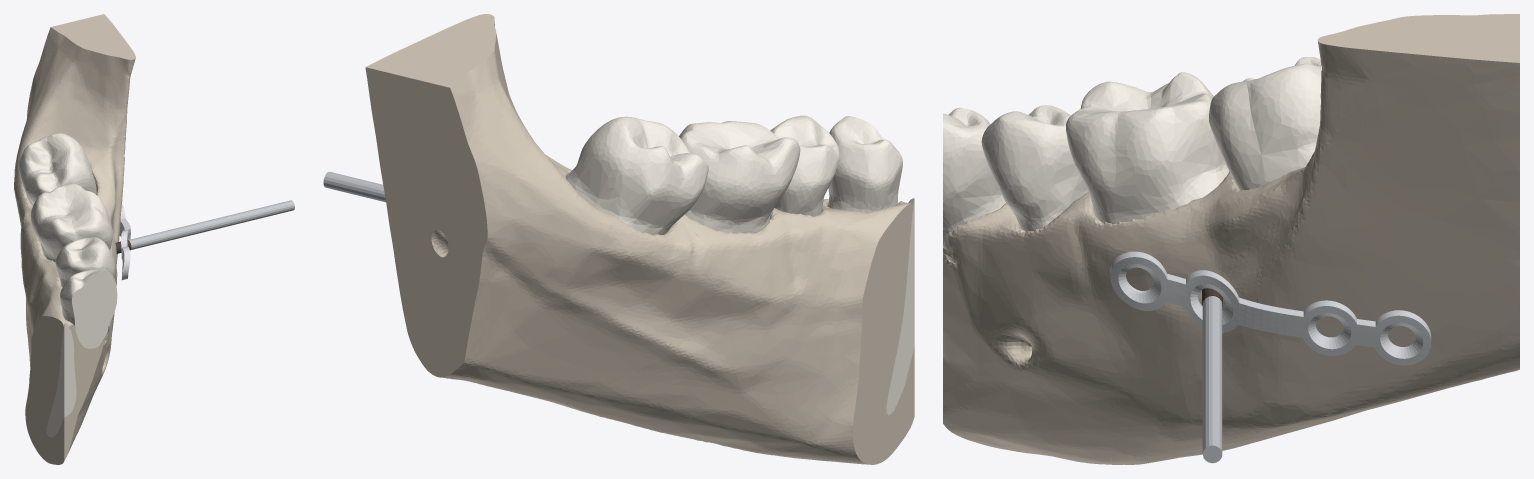
File: 4-drill.glb
The picture shows the model from 3 angles, left to right: view 1: azimuth 30°, elevation 25°; view 2: azimuth 150°, elevation 25°; view 3: azimuth 270°, elevation 25°; orthographic projection. The views are drawn at different scales.
Parts seen in each view (by area): view 1: bone, teeth, drill, plate; view 2: bone, teeth, drill; view 3: bone, teeth, plate, drill.
Part boxes in pixels (x1,y1,x2,y2): bone: (14,14,135,464); teeth: (18,133,117,437); drill: (128,200,294,249); plate: (119,205,130,280); bone: (365,14,914,464); teeth: (566,115,914,415); drill: (323,171,385,202); bone: (943,14,1519,464); teeth: (943,57,1321,263); plate: (1110,251,1431,365); drill: (1202,296,1222,463).
Size of the model in its own units: 0.0495 by 0.0474 by 0.044.
